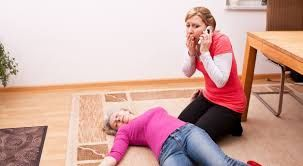fall: (79, 103, 289, 162)
